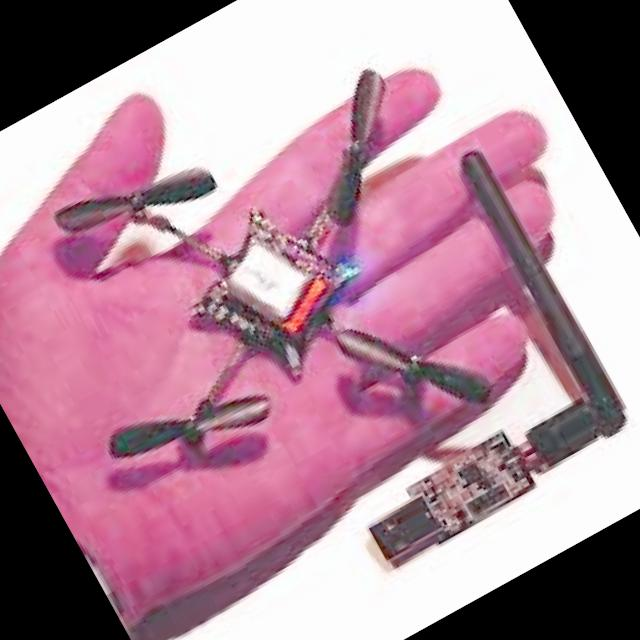drone: (0, 35, 549, 581)
